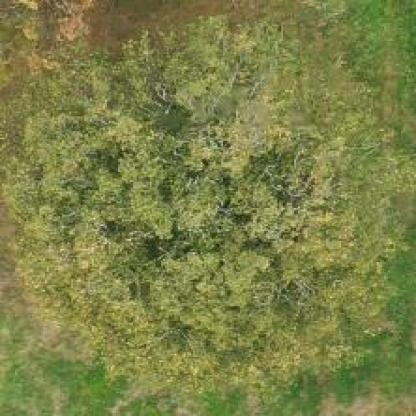Deciduous Tree: (0, 29, 382, 376)
